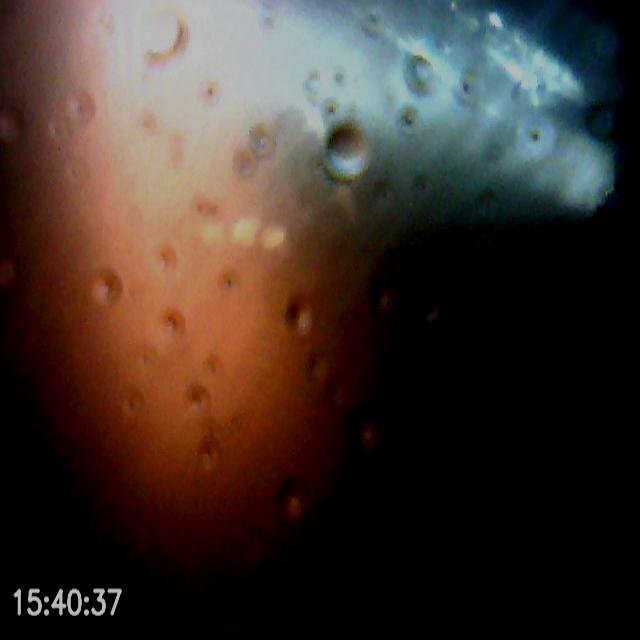white-dots: (198, 215, 290, 250)
